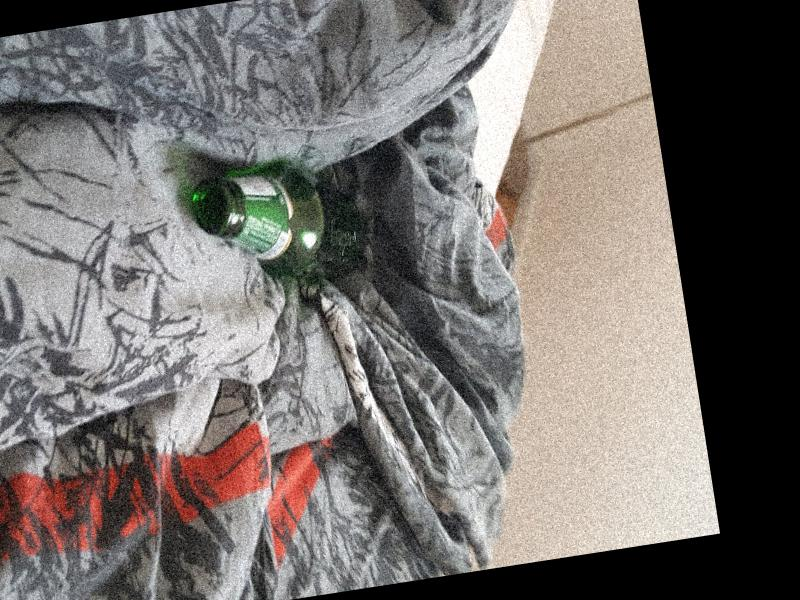Beer: (186, 149, 372, 297)
